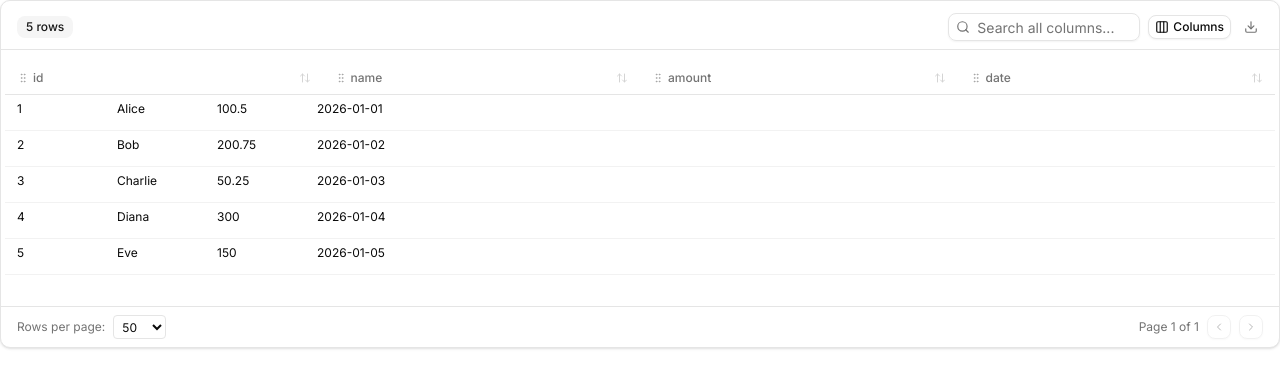
Scenario: DataTable › toggles column visibility via column picker
Note: Open column picker
Click the button with test id "column-picker-toggle" at (1190, 26), box [1148, 14, 1231, 38]
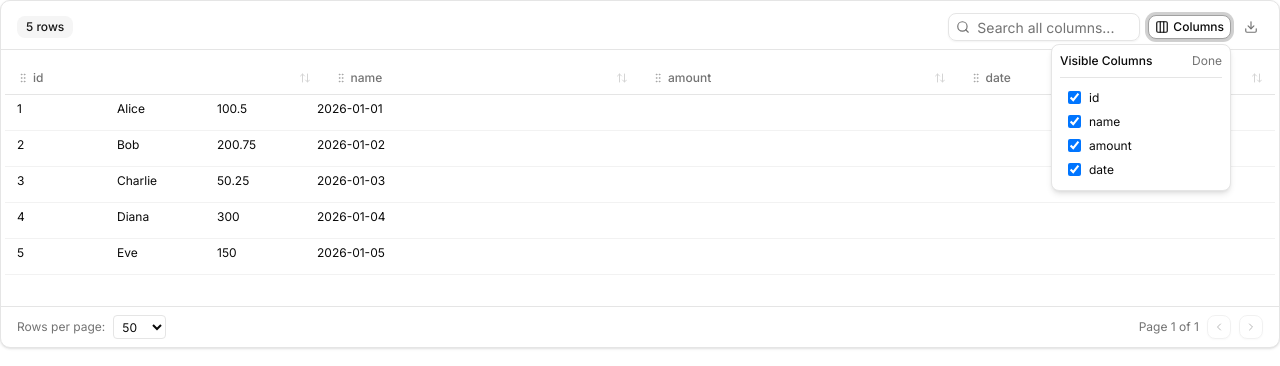
Check: the element with test id "column-picker-dropdown" is shown, box [1051, 44, 1231, 190]
Note: Uncheck the "amount" column
Click the checkbox with test id "column-toggle-amount" at (1074, 146), box [1068, 139, 1081, 152]
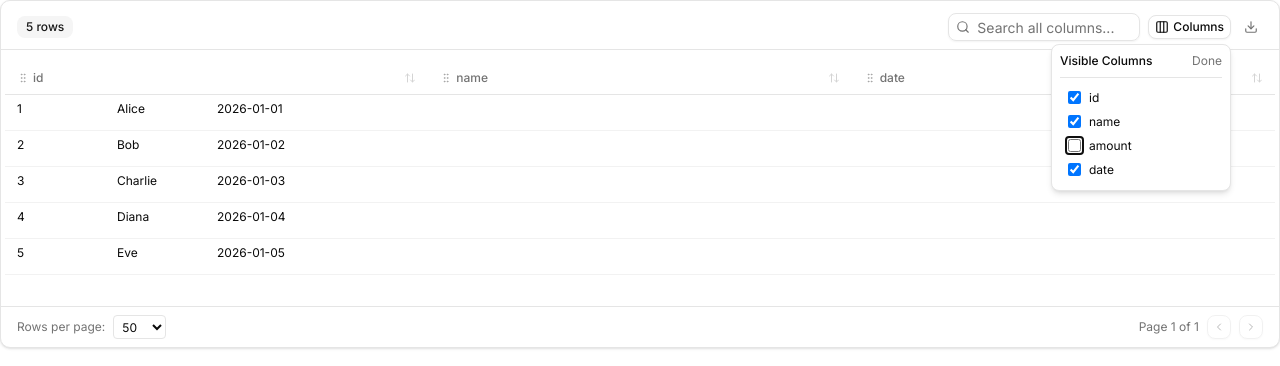
Check: the column heading with test id "column-header-id" is shown, box [5, 62, 428, 94]
Check: the column heading with test id "column-header-amount" is gone
